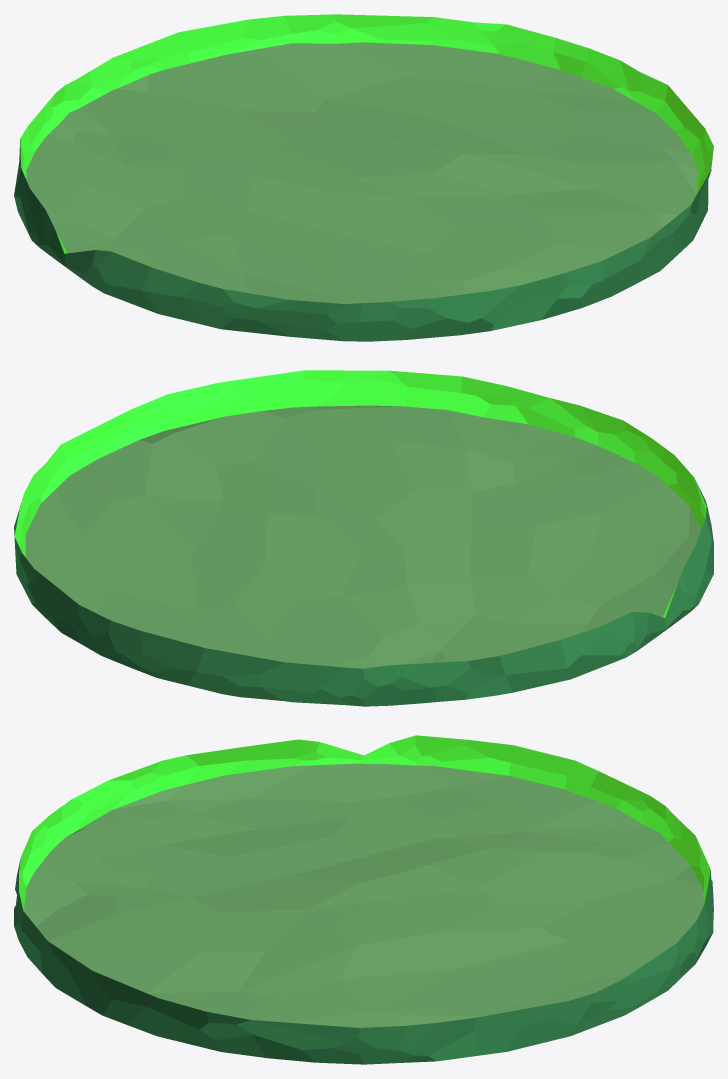
File: plant_lily_pad_giant_B.fbx
3 renders of one model, top to bottom at view 1: azimuth 30°, elevation 25°; view 2: azimuth 150°, elevation 25°; view 3: azimuth 270°, elevation 25°, orthographic.
Parts seen in each view (by area): view 1: plant_lily_pad_giant_B; view 2: plant_lily_pad_giant_B; view 3: plant_lily_pad_giant_B.
Part boxes in pixels (x1=…): plant_lily_pad_giant_B: x1=14, y1=14, x2=713, y2=341; plant_lily_pad_giant_B: x1=14, y1=370, x2=713, y2=706; plant_lily_pad_giant_B: x1=14, y1=735, x2=713, y2=1064.
Bounding box in the file's own units: 206 × 13.93 × 205.
